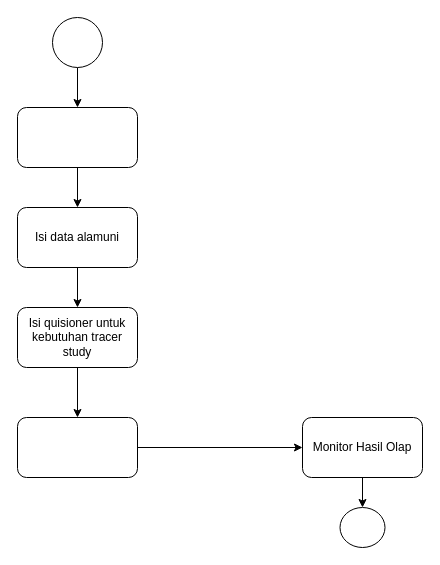
The diagram is 440 pixels wide and 565 high, and some of its shapes have lost their labels. The centre of each missing label's shape, as x and y in pixels:
Alumni membuka halaman aplikasi: point (77, 137)
Klik Simpan data: point (77, 447)
